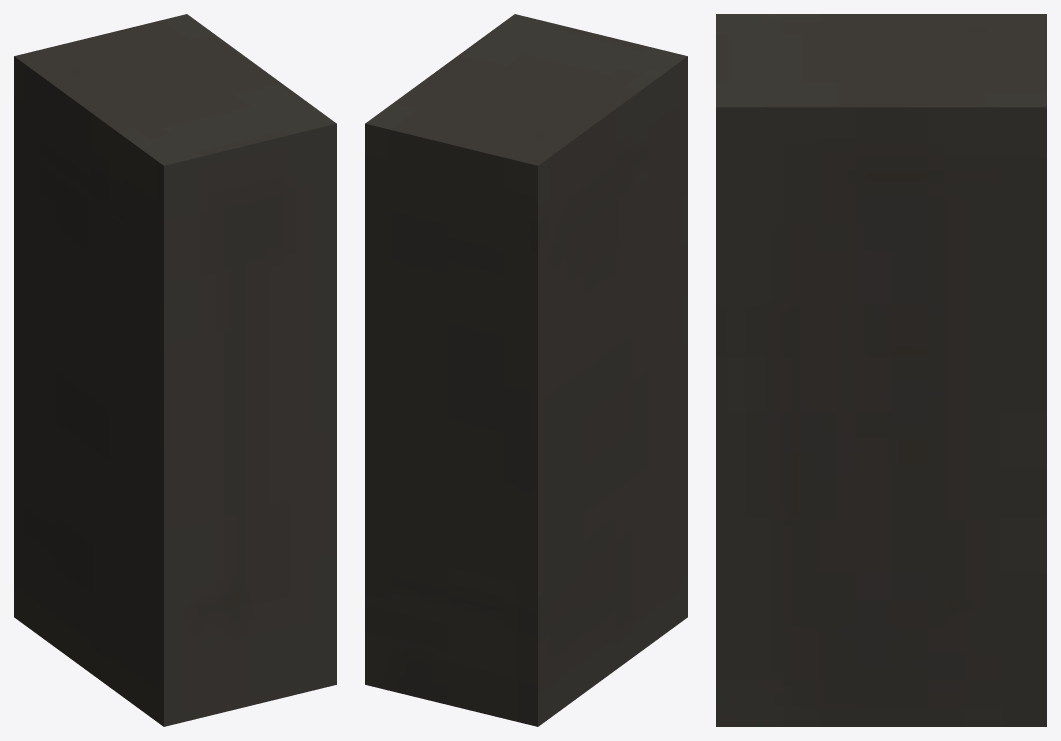
File: frame__wheel_bridge_1.glb
3 renders of one model, left to right at view 1: azimuth 30°, elevation 25°; view 2: azimuth 150°, elevation 25°; view 3: azimuth 270°, elevation 25°, orthographic. The views are drawn at different scales.
Parts seen in each view (by area): view 1: world; view 2: world; view 3: world.
Part boxes in pixels (x1,y1,x2,y2): world: [14, 14, 336, 726]; world: [365, 14, 687, 726]; world: [716, 14, 1046, 726].
Size of the model in its own units: 0.02 by 0.062 by 0.03.
Materials: 1 (1 with a texture image).
